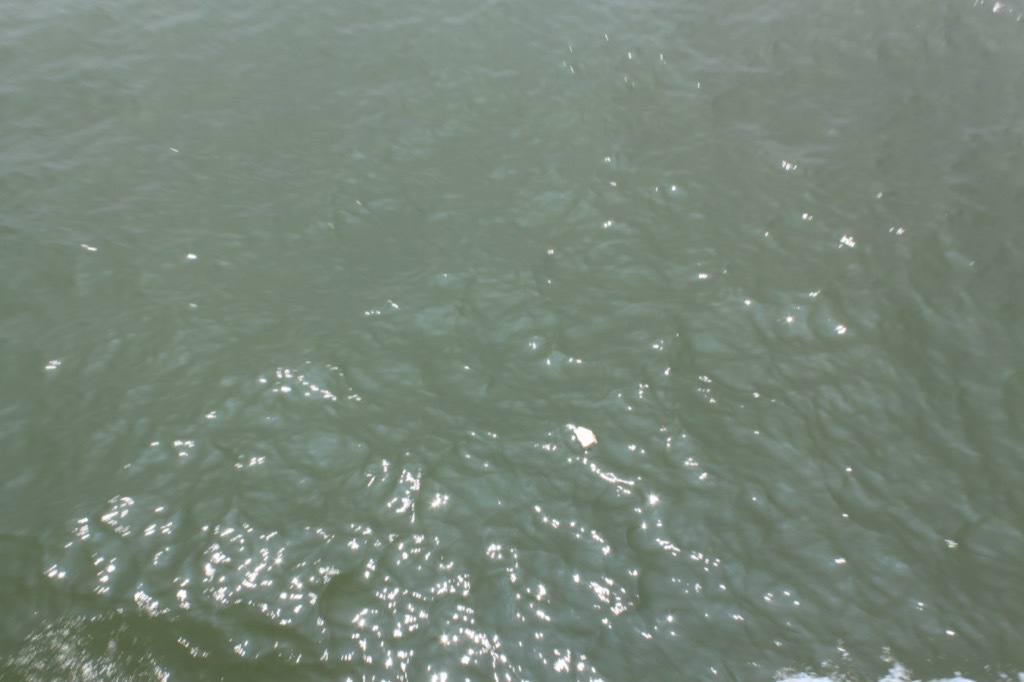plastic: (562, 412, 615, 467)
